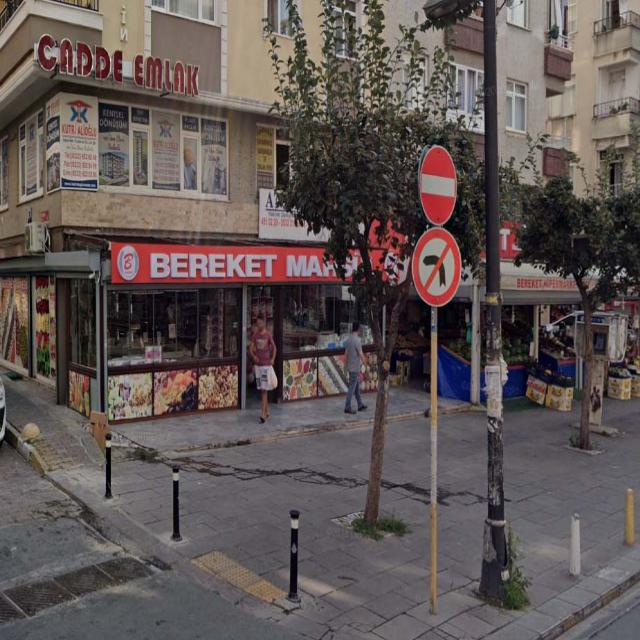girisyok: (420, 146, 457, 224)
soladonulmez: (412, 228, 462, 308)
